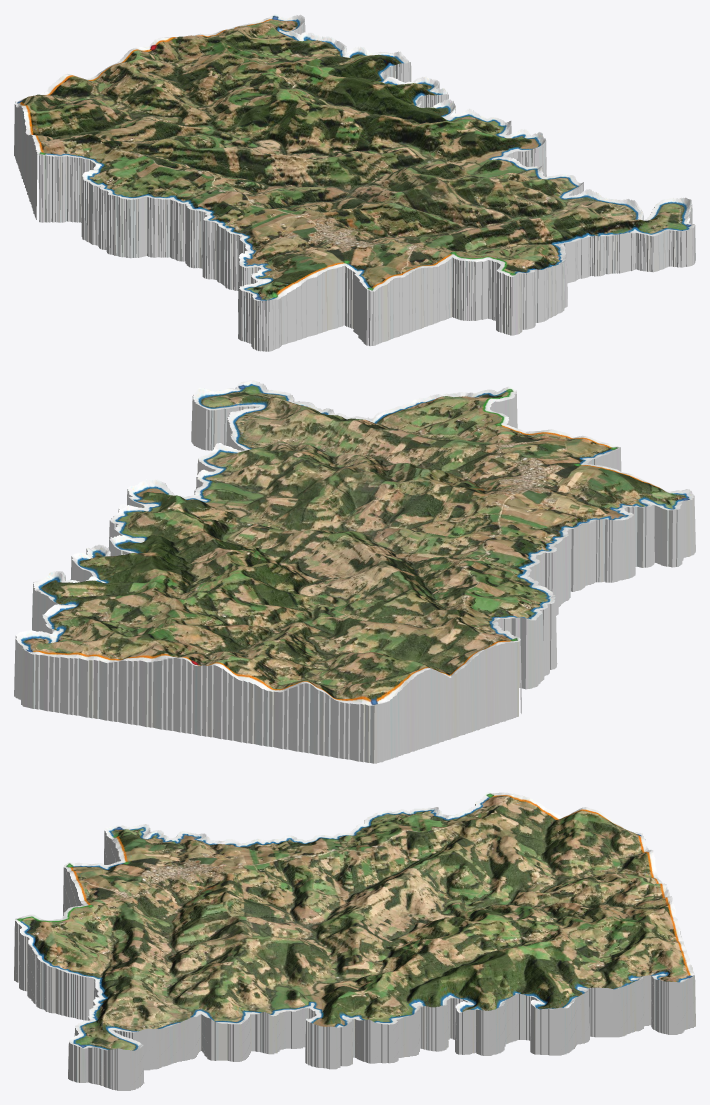
3 renders of one model, top to bottom at view 1: azimuth 30°, elevation 25°; view 2: azimuth 150°, elevation 25°; view 3: azimuth 270°, elevation 25°, orthographic. The views are drawn at different scales.
Bounding box in the file's own units: 1 × 0.1474 × 1.25.
1 material, 1 textured.
